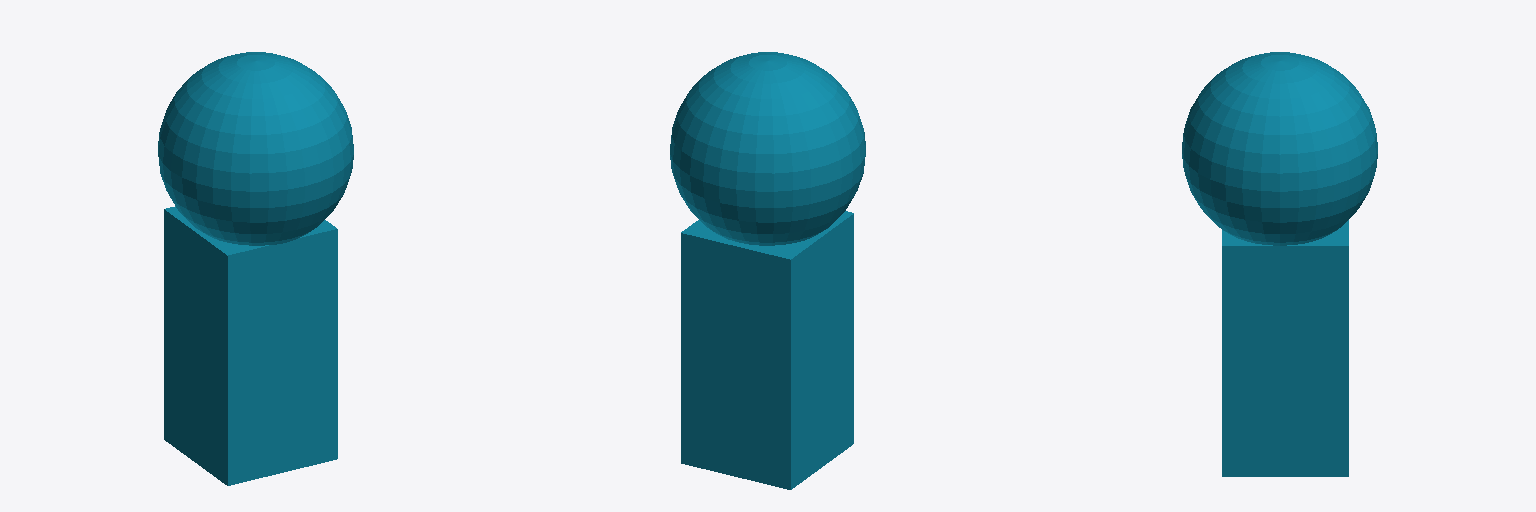
Rendered from peoeple.obj.
3 views of the same model, side by side, from view 1: azimuth 30°, elevation 25°; view 2: azimuth 150°, elevation 25°; view 3: azimuth 270°, elevation 25° (orthographic).
Parts seen in each view (by area): view 1: Box003; view 2: Box003; view 3: Box003.
Boxes of the visible parts, box(x1,y1,x2,y2) form: Box003: box(158, 52, 353, 485); Box003: box(670, 52, 865, 489); Box003: box(1182, 52, 1377, 476).
Size of the model in its own units: 15.48 by 33.82 by 15.48.